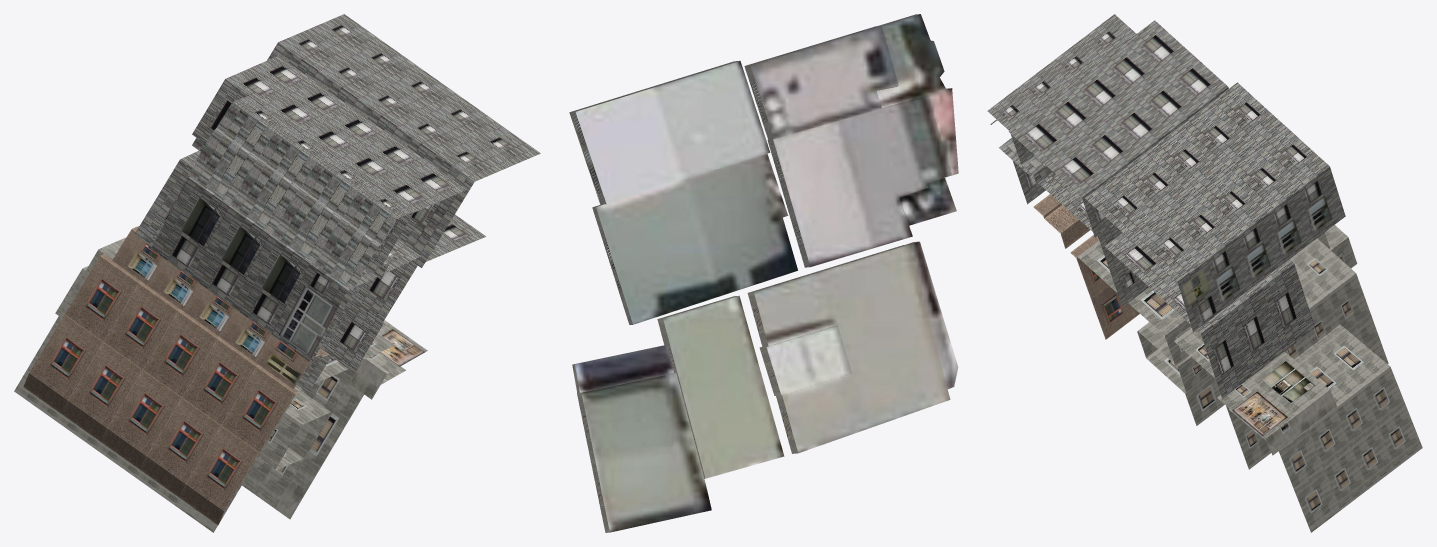
3 renders of one model, left to right at view 1: azimuth 30°, elevation 25°; view 2: azimuth 150°, elevation 25°; view 3: azimuth 270°, elevation 25°, orthographic. The views are drawn at different scales.
Size of the model in its own units: 37.67 by 40.88 by 37.37.
Materials: 45 (45 with a texture image).
